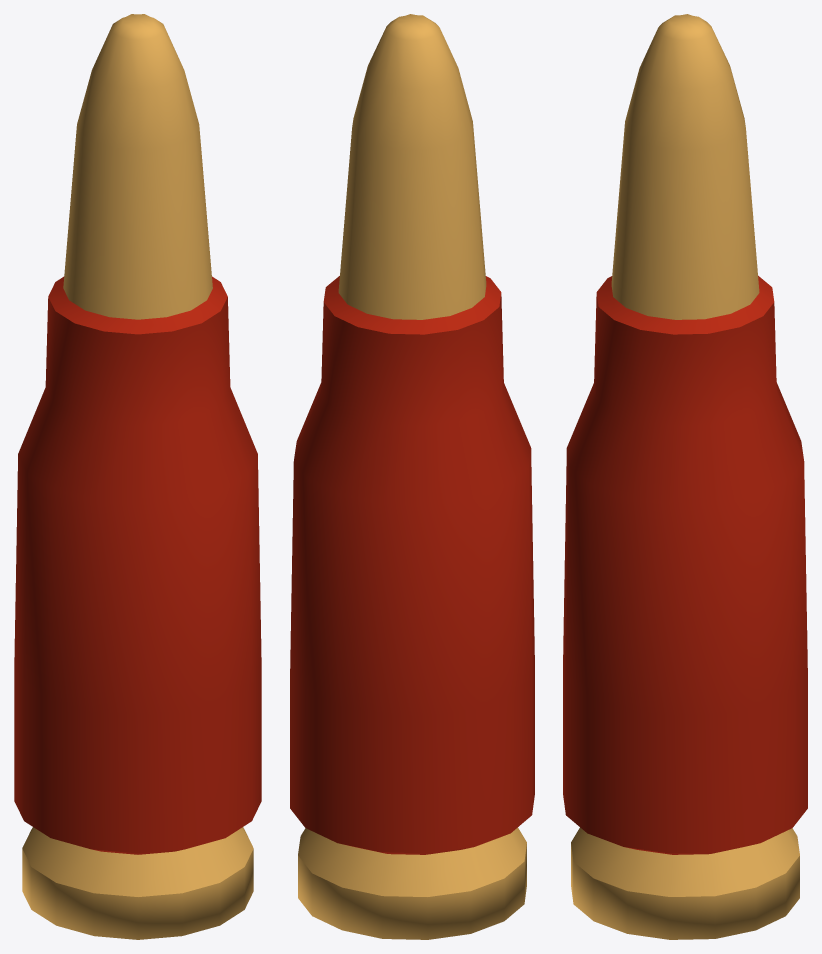
Rendered from S-bullet2.fbx.
3 renders of one model, left to right at view 1: azimuth 30°, elevation 25°; view 2: azimuth 150°, elevation 25°; view 3: azimuth 270°, elevation 25°, orthographic.
Parts seen in each view (by area): view 1: S-bullet2; view 2: S-bullet2; view 3: S-bullet2.
Boxes of the visible parts, x1,y1,x2,y2 form: S-bullet2: (14, 14, 261, 939); S-bullet2: (290, 14, 534, 939); S-bullet2: (563, 14, 807, 939).
Size of the model in its own units: 0.3865 by 1.52 by 0.3868.
